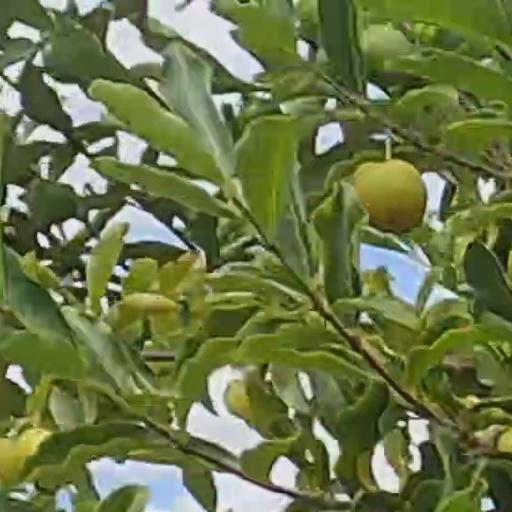acerola_verde: (357, 161, 425, 229)
